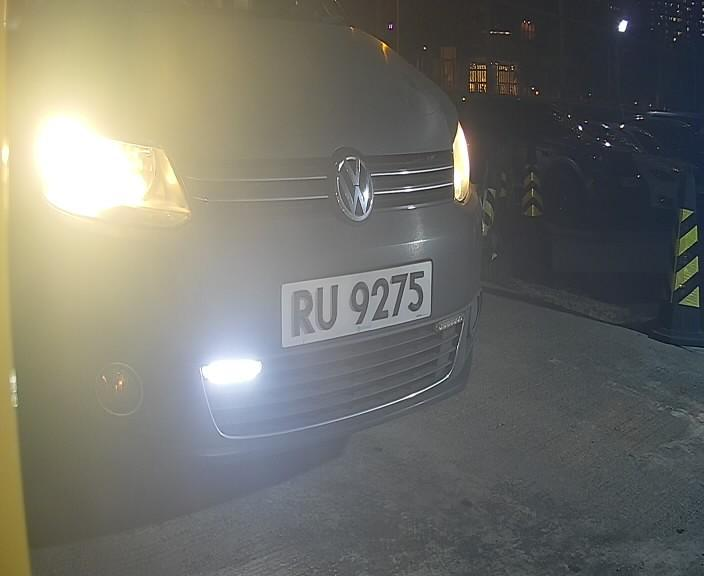Car: (1, 16, 576, 494)
License Plate: (277, 250, 434, 353)
